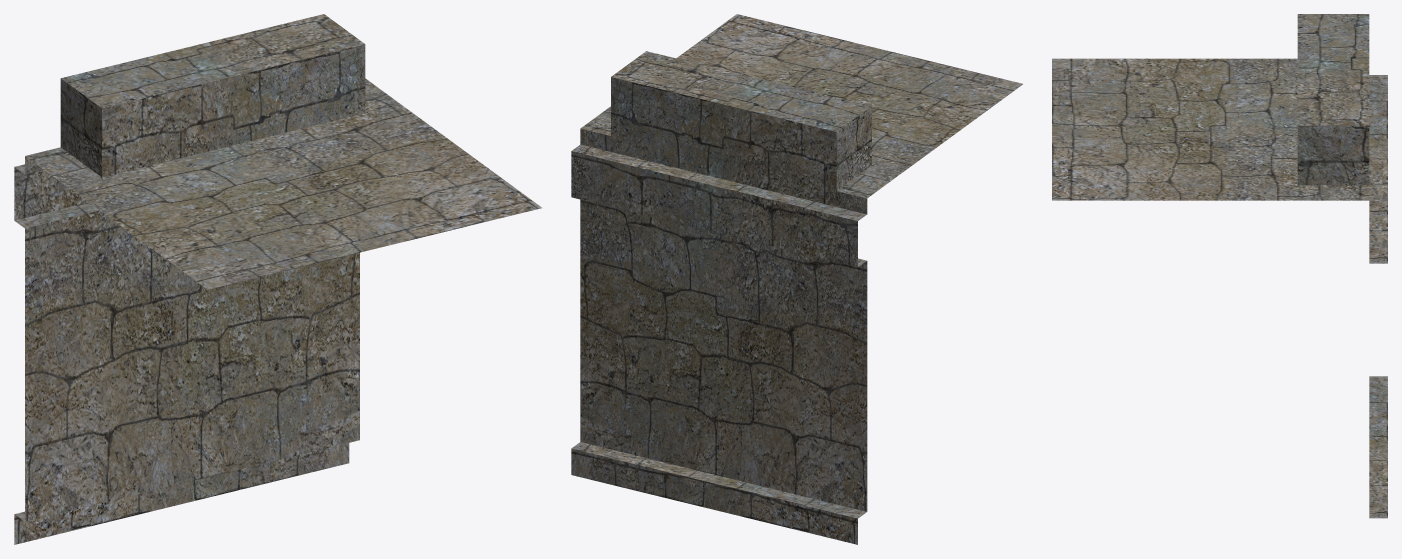
File: R_Center.FBX
3 renders of one model, left to right at view 1: azimuth 30°, elevation 25°; view 2: azimuth 150°, elevation 25°; view 3: azimuth 270°, elevation 25°, orthographic. The views are drawn at different scales.
Visible parts, largest first — view 1: Claimed101N001; view 2: Claimed101N001; view 3: Claimed101N001.
Boxes of the visible parts, x1,y1,x2,y2 form: Claimed101N001: (14, 14, 541, 544); Claimed101N001: (571, 14, 1022, 544); Claimed101N001: (1052, 14, 1387, 518).
Size of the model in its own units: 100 by 133 by 100.
